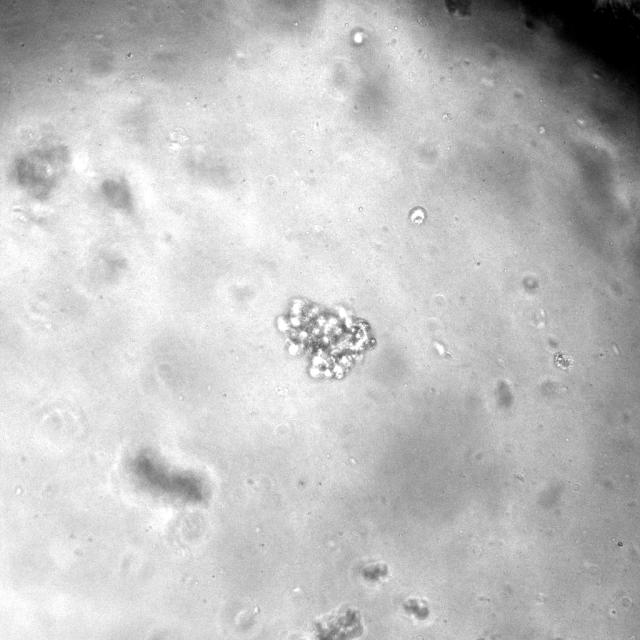organoid: (278, 299, 376, 378), (121, 446, 212, 504), (314, 605, 363, 639), (402, 597, 428, 621), (361, 560, 388, 582)
